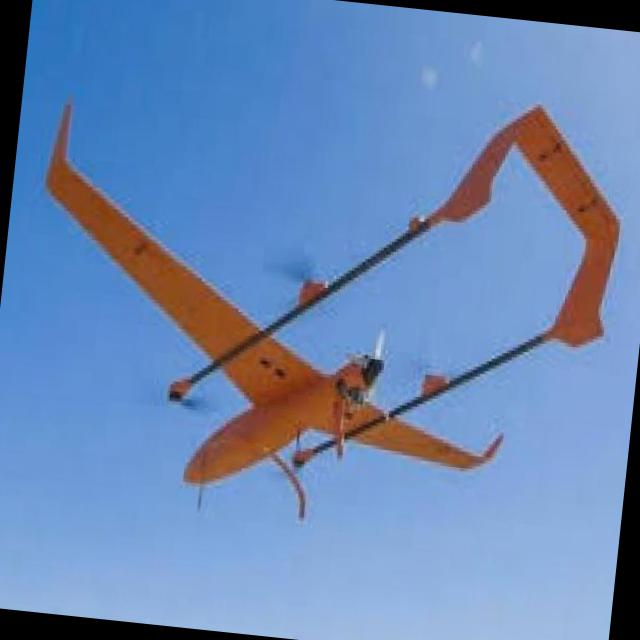UAV: (7, 97, 638, 571)
